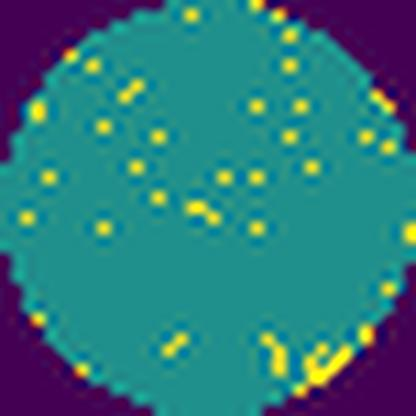Edge-Loc: (291, 338, 356, 400)
